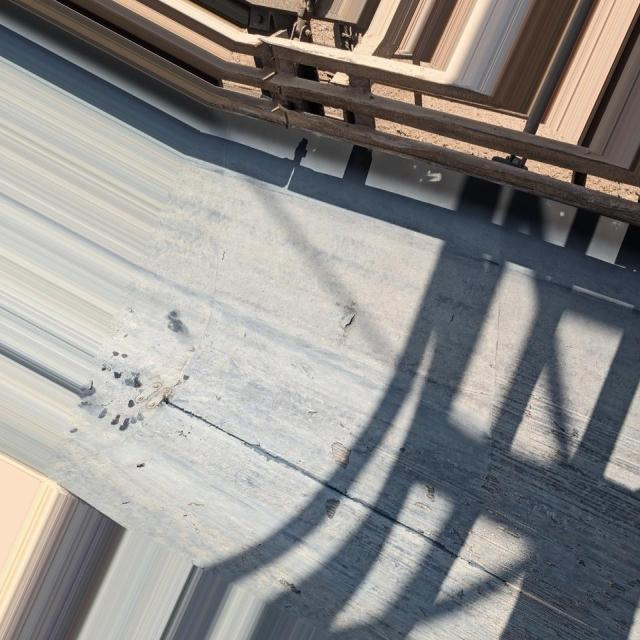Impact Damage: (328, 439, 354, 473), (322, 495, 342, 522)
Tear: (160, 395, 554, 611), (341, 302, 362, 336), (450, 312, 456, 323)
